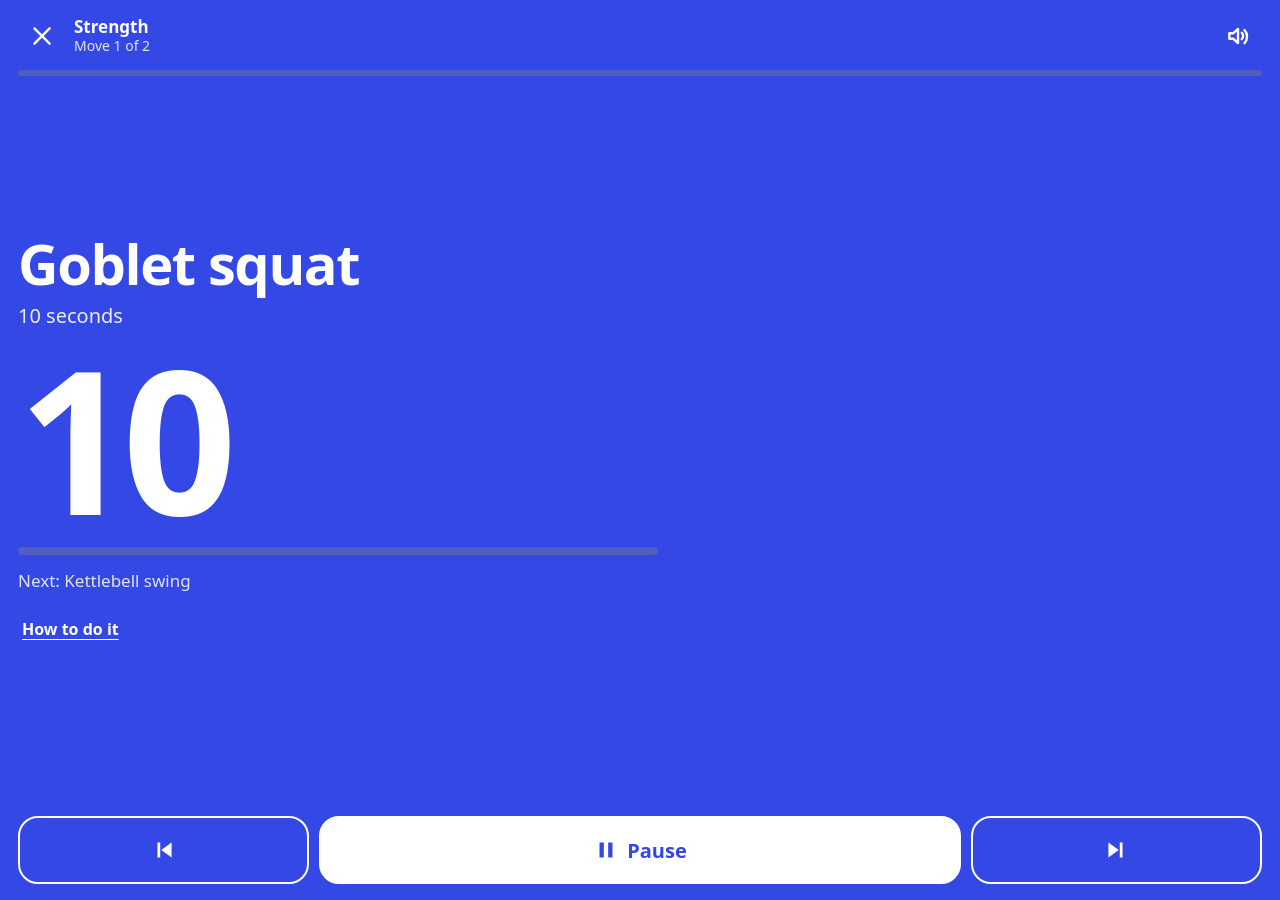
Test: the player › skips ahead
This screenshot has width=1280, height=900.
Click the button named "Skip": (1116, 850) top-left (971, 816), bottom-right (1262, 884)
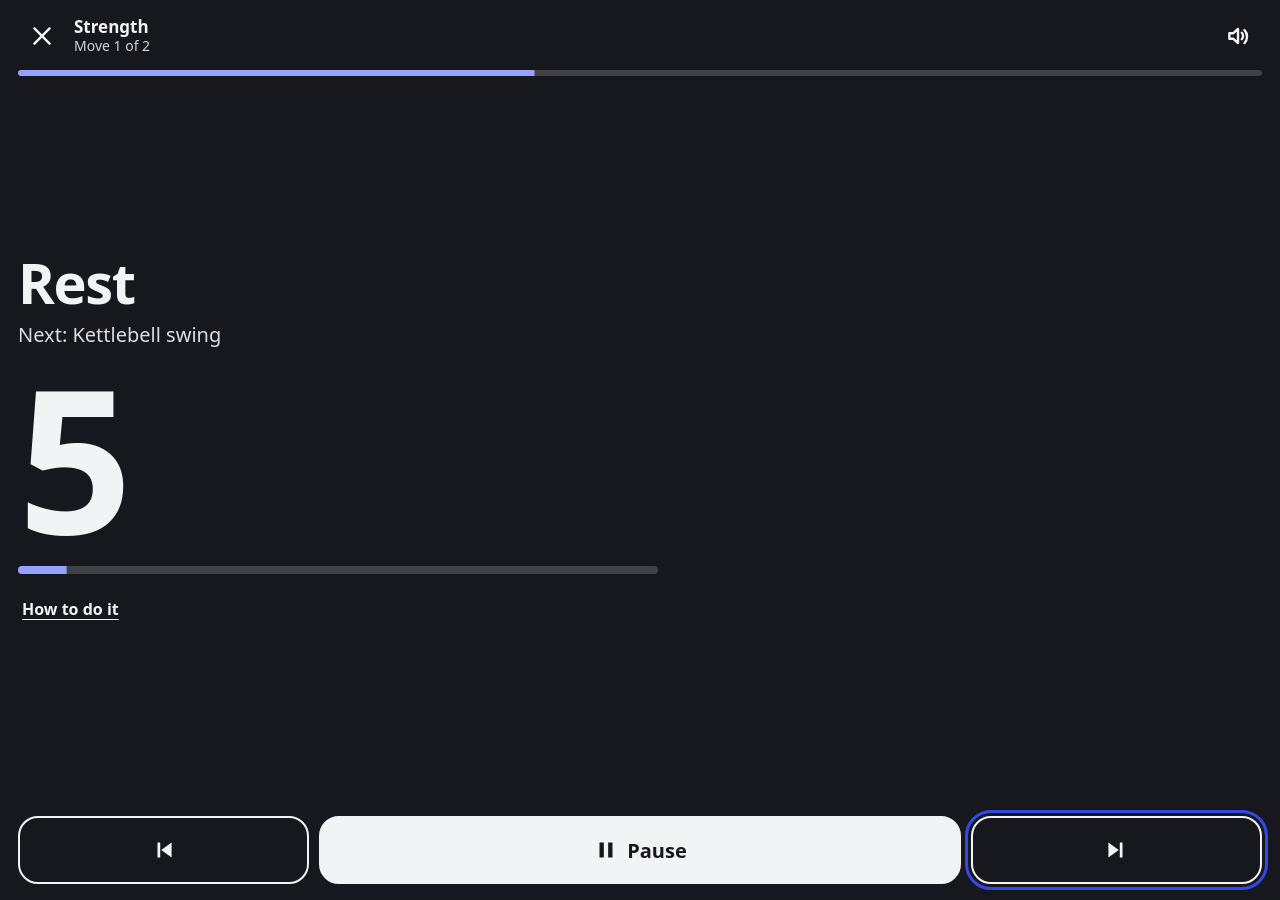
Result: the text "Rest" is shown at top-left (18, 244), bottom-right (135, 320)
